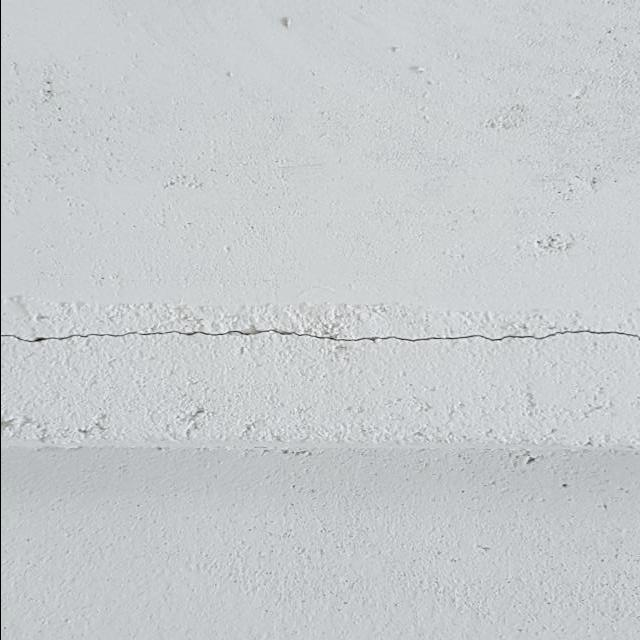SurfaceCrack: (1, 270, 640, 394)
